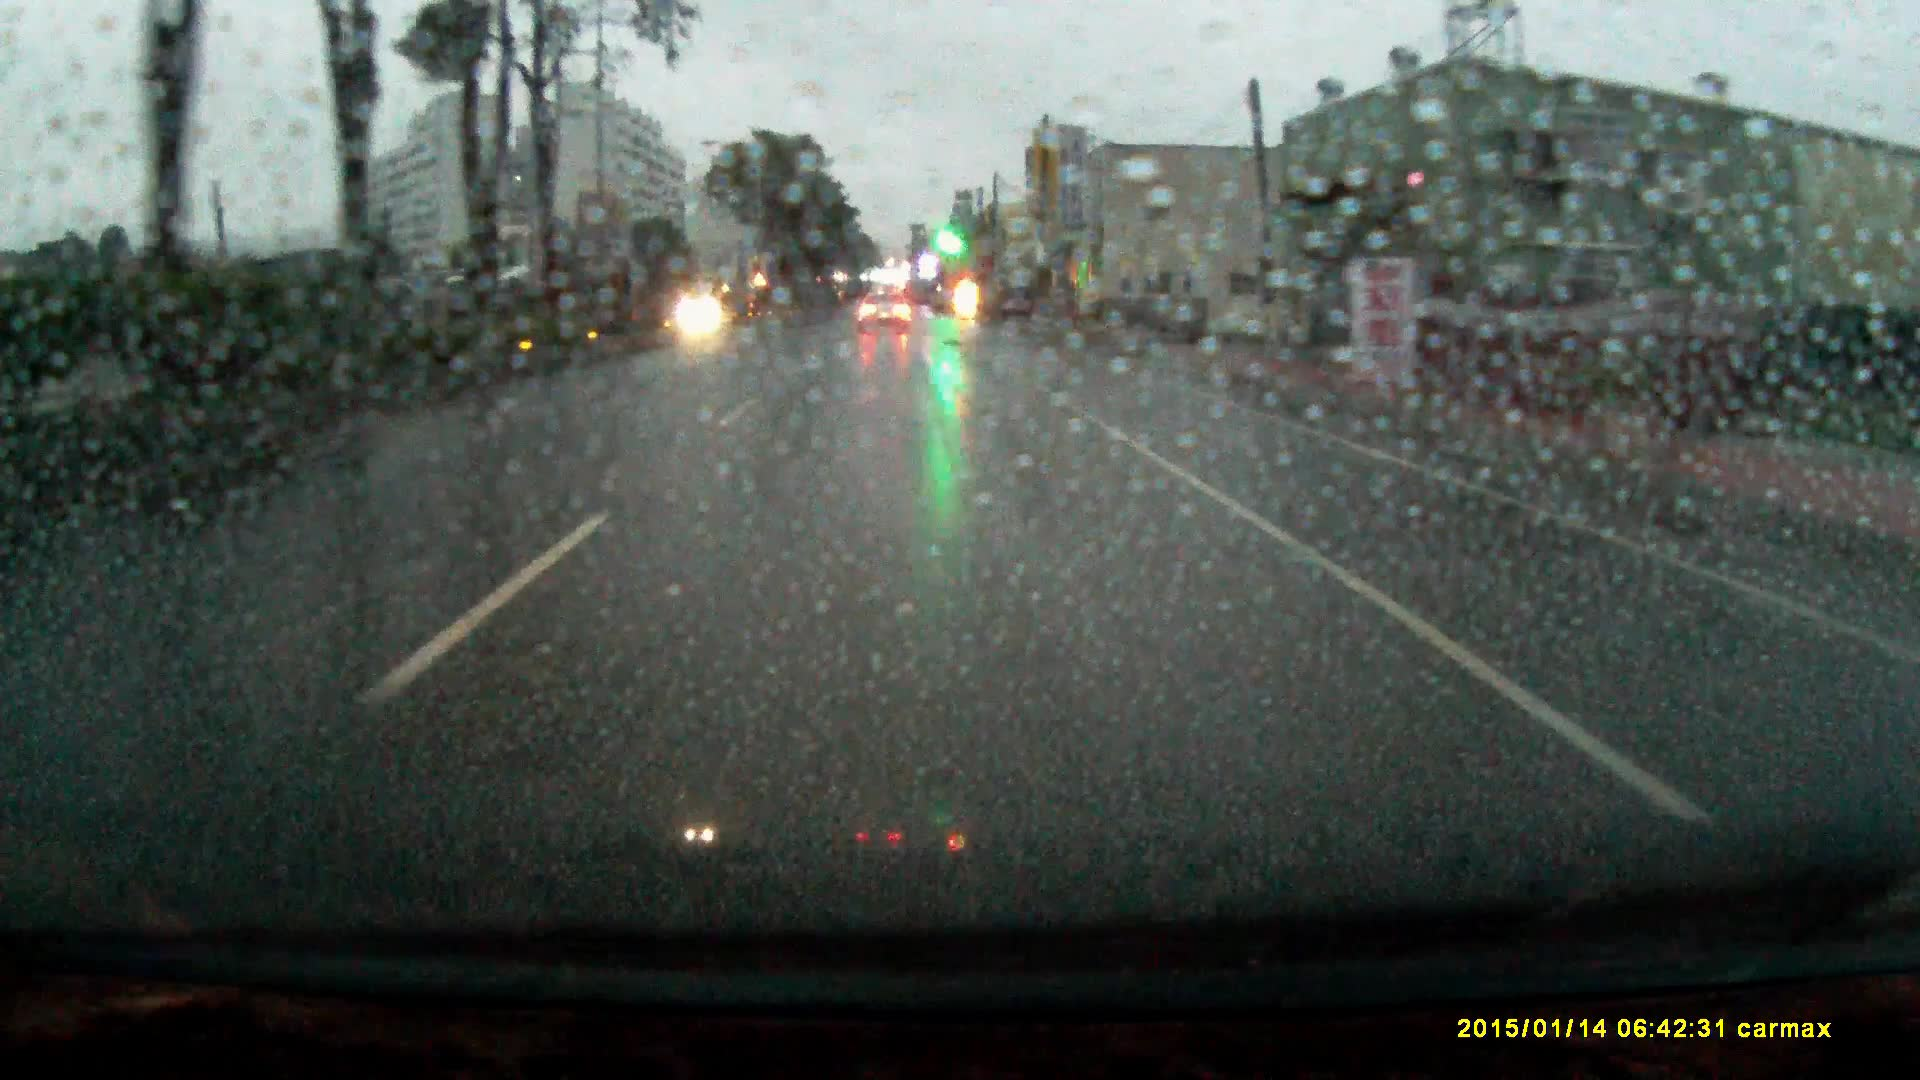vehicle: (857, 299, 910, 344)
